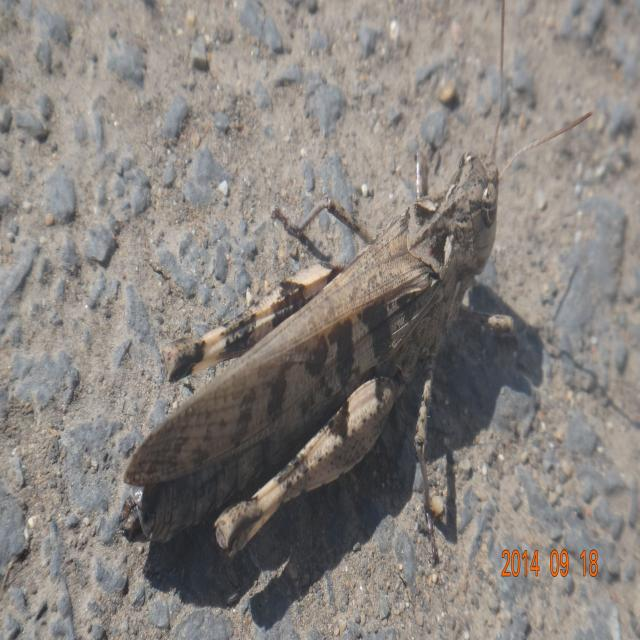ZhaMeng: (102, 110, 606, 550)
